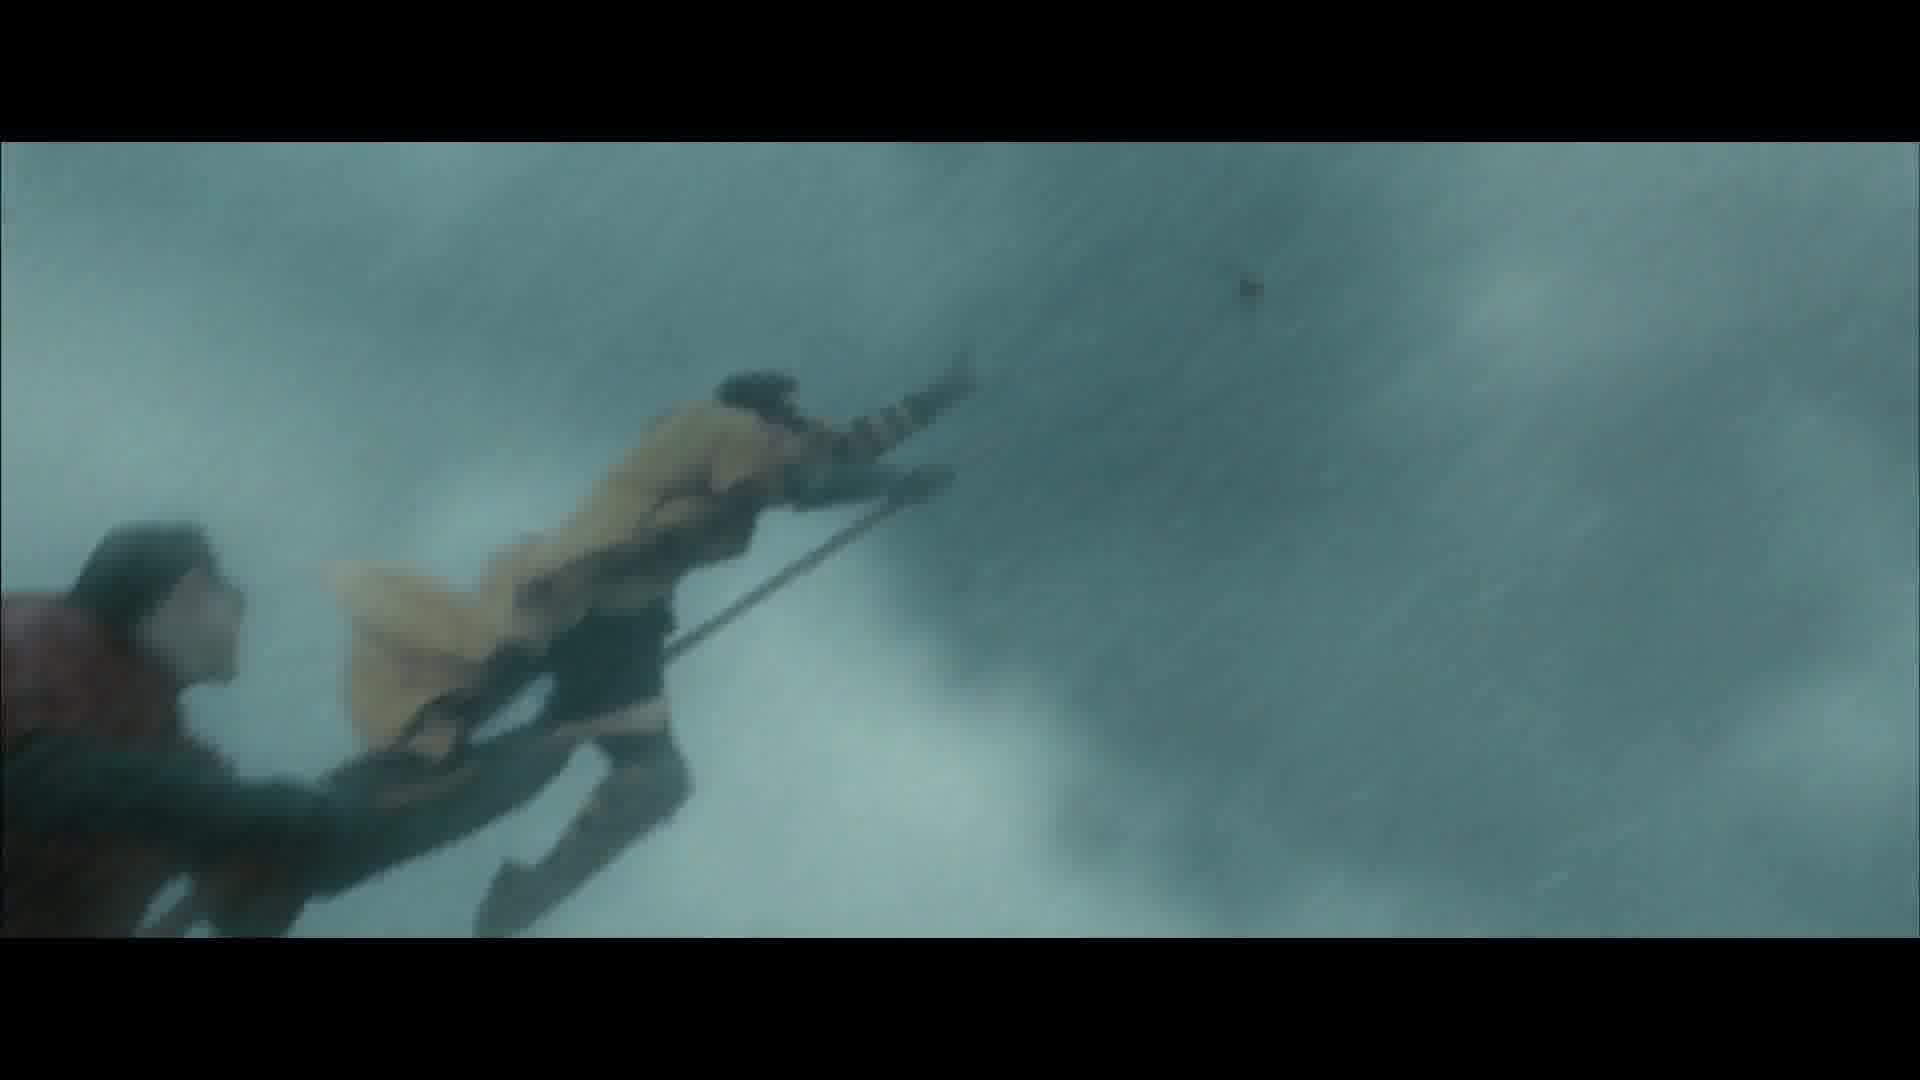snitch: (1232, 273, 1269, 310)
